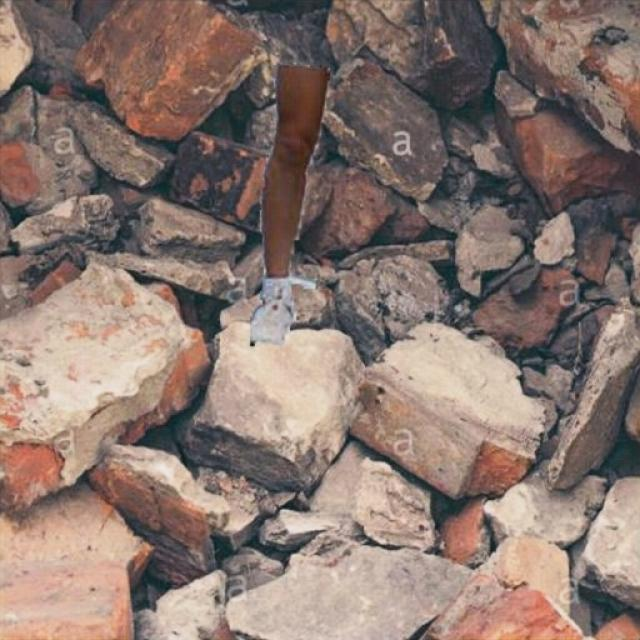Person in Rubble: (250, 62, 329, 346)
